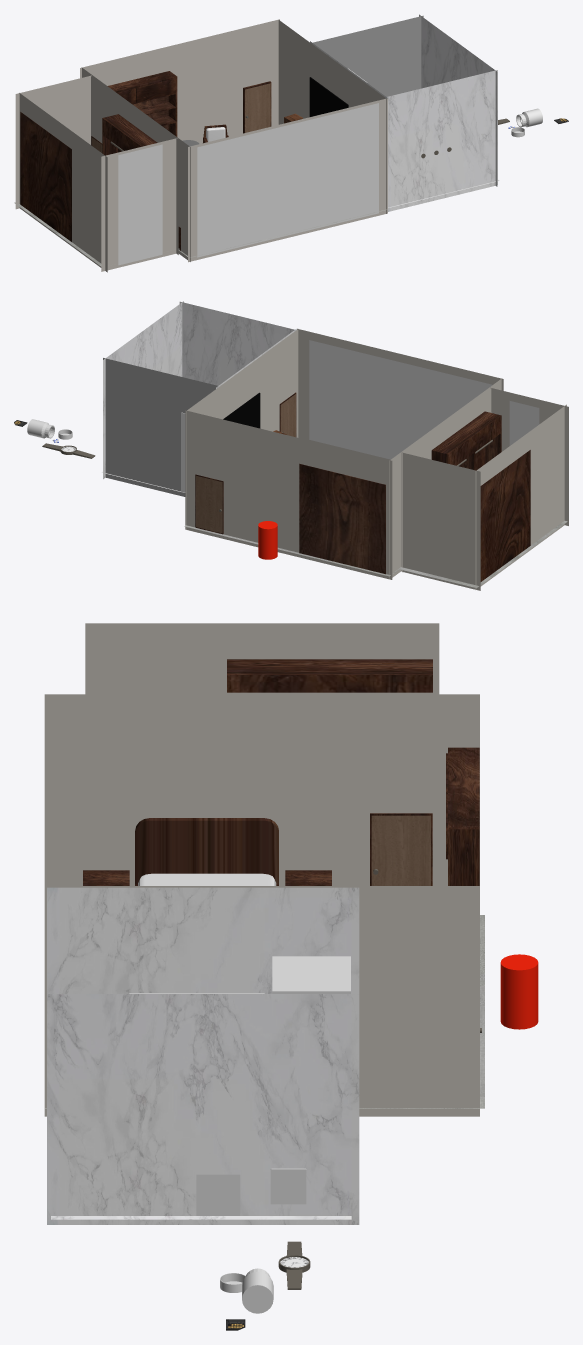
Rendered from FBXBlockout.fbx.
The picture shows the model from 3 angles, top to bottom: view 1: azimuth 30°, elevation 25°; view 2: azimuth 150°, elevation 25°; view 3: azimuth 270°, elevation 25°; orthographic projection. The views are drawn at different scales.
Visible parts, largest first — view 1: Window, pPlane12, pPlane9, polySurface22 (×2), pPlane11, pPlane6, Window1, polySurface13, polySurface25, polySurface18, pPlane8, pPlane10 (+7 smaller); view 2: pPlane9, Window, pPlane11, pPlane10, polySurface7, polySurface22 (×2), pPlane12, pPlane6, polySurface13, pPlane8, polySurface18, polySurface25 (+10 smaller); view 3: pPlane8, polySurface17, BathroomWallwDoor, polySurface13, pPlane6, BedFrame, polySurface22, polySurface7, pCube54, Shwoer, Playerref, Shelf2 (+6 smaller).
Boxes of the visible parts, x1=… form: Window: x1=197, y1=103, x2=378, y2=257; pPlane12: x1=387, y1=70, x2=497, y2=211; pPlane9: x1=80, y1=19, x2=279, y2=143; polySurface22 (×2): x1=20, y1=112, x2=157, y2=241; pPlane11: x1=312, y1=15, x2=423, y2=96; pPlane6: x1=19, y1=93, x2=107, y2=272; Window1: x1=118, y1=144, x2=162, y2=265; polySurface13: x1=278, y1=20, x2=386, y2=213; polySurface25: x1=101, y1=138, x2=177, y2=271; polySurface18: x1=188, y1=98, x2=387, y2=262; pPlane8: x1=419, y1=14, x2=497, y2=186; pPlane10: x1=15, y1=75, x2=91, y2=209; pPlane9: x1=185, y1=410, x2=392, y2=579; Window: x1=309, y1=340, x2=492, y2=459; pPlane11: x1=103, y1=358, x2=217, y2=496; pPlane10: x1=401, y1=452, x2=480, y2=590; polySurface7: x1=299, y1=463, x2=385, y2=574; polySurface22 (×2): x1=431, y1=411, x2=530, y2=581; pPlane12: x1=179, y1=301, x2=294, y2=385; pPlane6: x1=475, y1=404, x2=566, y2=589; polySurface13: x1=186, y1=329, x2=298, y2=529; pPlane8: x1=103, y1=301, x2=183, y2=479; polySurface18: x1=297, y1=328, x2=503, y2=459; polySurface25: x1=490, y1=387, x2=568, y2=525; pPlane8: x1=47, y1=994, x2=359, y2=1224; polySurface17: x1=44, y1=694, x2=479, y2=885; BathroomWallwDoor: x1=47, y1=887, x2=359, y2=993; polySurface13: x1=44, y1=886, x2=479, y2=1116; pPlane6: x1=85, y1=623, x2=439, y2=692; BedFrame: x1=135, y1=818, x2=278, y2=885; polySurface22: x1=227, y1=659, x2=432, y2=692; polySurface7: x1=448, y1=747, x2=479, y2=885; pCube54: x1=371, y1=815, x2=430, y2=885; Shwoer: x1=272, y1=956, x2=350, y2=993; Playerref: x1=500, y1=954, x2=538, y2=1029; Shelf2: x1=196, y1=1174, x2=240, y2=1215.
Bounding box in the file's own units: 73.05 × 16.08 × 31.2.
Materials: 19 (8 with a texture image).
